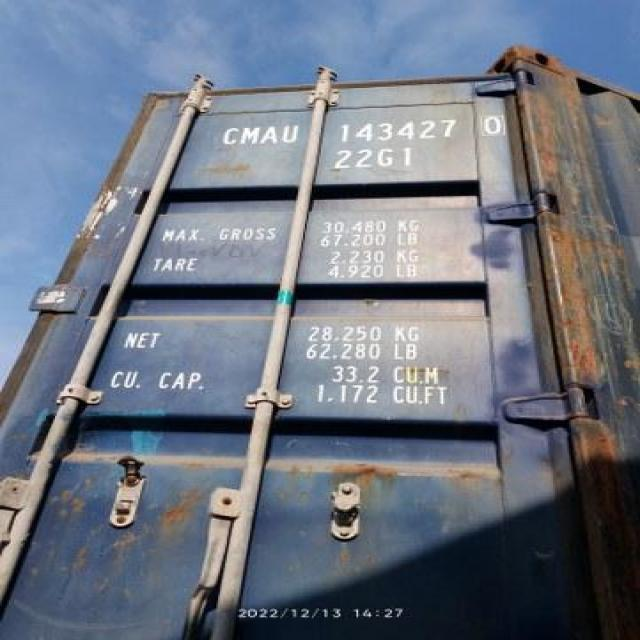ISO: (322, 142, 420, 174)
container_number: (216, 106, 507, 152)
